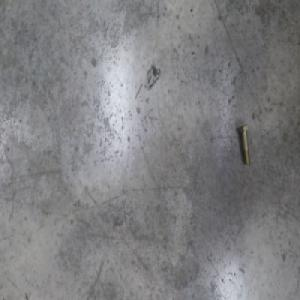Bolt: (238, 122, 251, 164)
